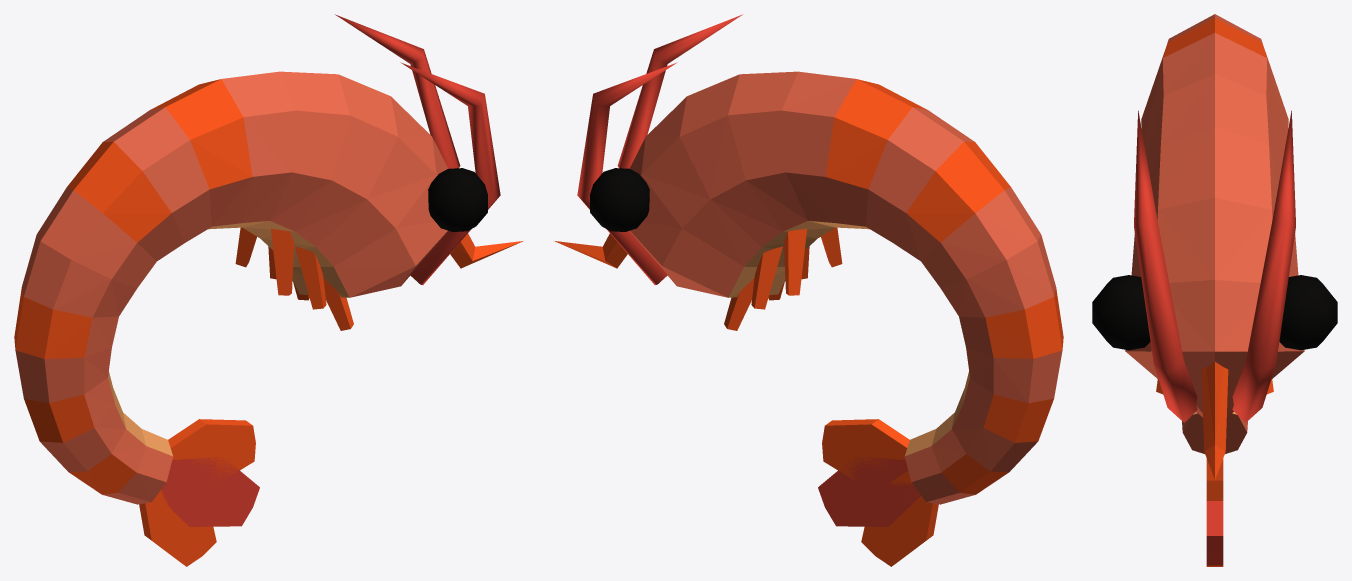
File: bait-tom.glb
3 views of the same model, side by side, from view 1: azimuth 30°, elevation 25°; view 2: azimuth 150°, elevation 25°; view 3: azimuth 270°, elevation 25° (orthographic). The views are drawn at different scales.
Parts seen in each view (by area): view 1: body; view 2: body; view 3: body.
Part boxes in pixels (x1,y1,x2,y2): body: [14, 14, 523, 566]; body: [554, 14, 1063, 566]; body: [1092, 14, 1337, 566].
Size of the model in its own units: 1 by 0.9033 by 0.3573.
